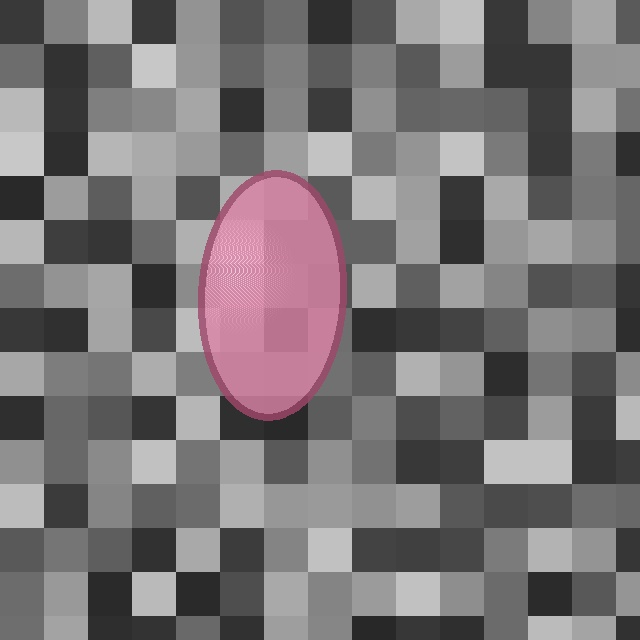lens: (201, 173, 343, 417)
